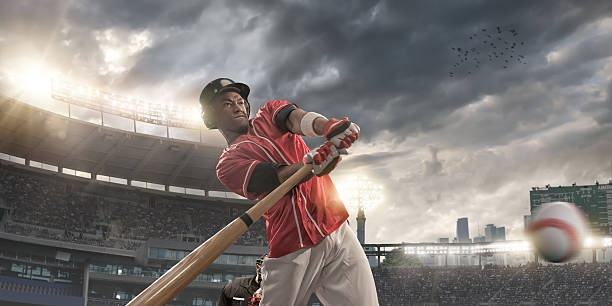bita: (135, 131, 346, 306)
